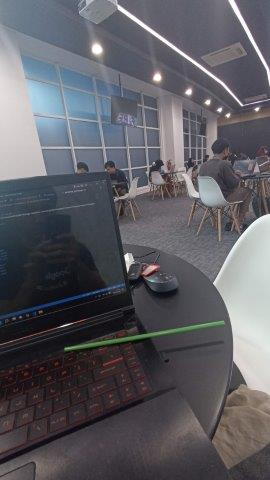sedotan: (64, 321, 224, 352)
